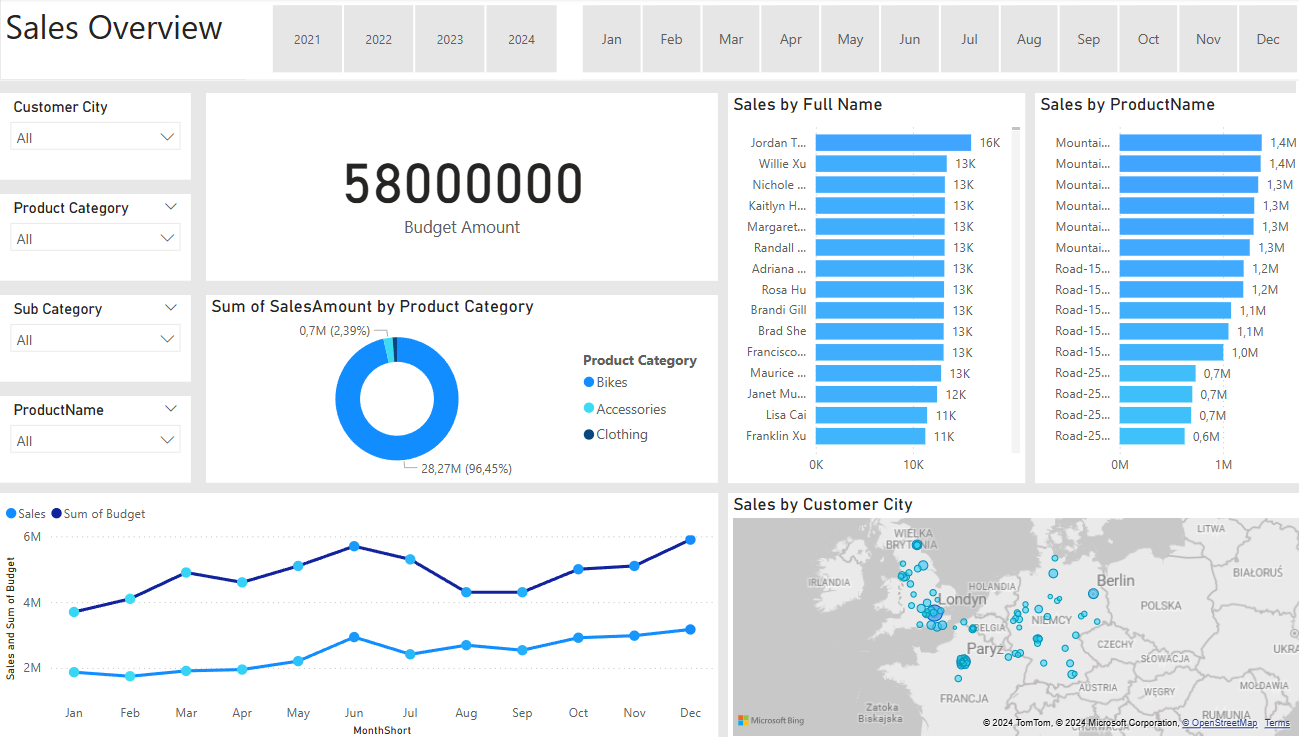

What the dashboard file says about the page in this screenshot:
{"tool":"powerbi","page":{"name":"Page 1","canvas":[1280,720],"ordinal":0},"visuals":[{"type":"textbox","box":[0,0,1280,79.6],"z":0},{"type":"slicer","fields":{"Values":["DIM_Customer.Customer City"]},"box":[0,92.4,184.7,84.5],"z":1000},{"type":"slicer","fields":{"Values":["DIM_Product.Product Category"]},"box":[0,190,184.7,84.5],"z":2000},{"type":"slicer","fields":{"Values":["DIM_Product.ProductName"]},"box":[0,385.3,184.7,84.5],"z":3000},{"type":"slicer","fields":{"Values":["DIM_Product.Sub Category"]},"box":[0,287.7,184.7,84.5],"z":4000},{"type":"slicer","fields":{"Values":["DIM_Calendar.MonthShort"]},"box":[538.4,0,741.6,79.2],"z":5000},{"type":"slicer","fields":{"Values":["DIM_Calendar.Year"]},"box":[238.8,0,324.6,79.2],"z":6000},{"type":"card","fields":{"Values":["FACT_Budget.Budget Amount"]},"box":[199.6,92.1,496.1,182.2],"z":7000},{"type":"donutChart","fields":{"Y":["FACT_InternetSales.SalesAmount"],"Category":["DIM_Product.Product Category"]},"box":[199.6,287.8,496.1,182.2],"z":8000},{"type":"lineChart","fields":{"Category":["DIM_Calendar.MonthShort"],"Y":["FACT_InternetSales.Sales","FACT_Budget.Budget"]},"box":[0,479.6,695.7,240.3],"z":9000},{"type":"barChart","fields":{"Y":["FACT_InternetSales.Sales"],"Category":["DIM_Customer.Full Name"]},"box":[705.4,92.1,287.8,377.9],"z":10000},{"type":"barChart","fields":{"Category":["DIM_Product.ProductName"],"Y":["FACT_InternetSales.Sales"]},"box":[1002.9,92.1,277.1,377.9],"z":11000},{"type":"map","fields":{"Category":["DIM_Customer.Customer City"],"Size":["FACT_InternetSales.Sales"]},"box":[705.4,479.6,574.6,240.3],"z":12000}]}

Visuals, with their boxes in screenshot pixels (x1, y1, x2, y2), scaled from the page's 1280x720 canvas onto the 1299x737 screenshot:
textbox: detection(0, 0, 1298, 81)
slicer - DIM_Customer.Customer City: detection(0, 95, 187, 181)
slicer - DIM_Product.Product Category: detection(0, 194, 187, 281)
slicer - DIM_Product.ProductName: detection(0, 394, 187, 481)
slicer - DIM_Product.Sub Category: detection(0, 294, 187, 381)
slicer - DIM_Calendar.MonthShort: detection(546, 0, 1298, 81)
slicer - DIM_Calendar.Year: detection(242, 0, 572, 81)
card - FACT_Budget.Budget Amount: detection(203, 94, 706, 281)
donutChart - FACT_InternetSales.SalesAmount x DIM_Product.Product Category: detection(203, 295, 706, 481)
lineChart - DIM_Calendar.MonthShort x FACT_InternetSales.Sales: detection(0, 491, 706, 736)
barChart - FACT_InternetSales.Sales x DIM_Customer.Full Name: detection(716, 94, 1008, 481)
barChart - DIM_Product.ProductName x FACT_InternetSales.Sales: detection(1018, 94, 1298, 481)
map - DIM_Customer.Customer City x FACT_InternetSales.Sales: detection(716, 491, 1298, 736)
